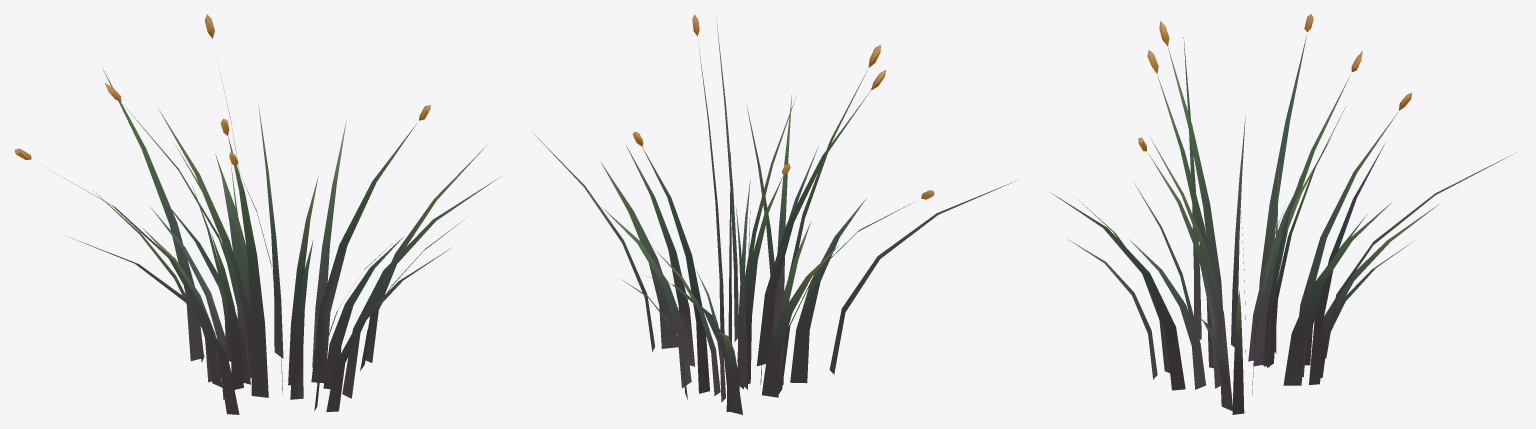
Rendered from cimen_basak.glb.
3 views of the same model, side by side, from view 1: azimuth 30°, elevation 25°; view 2: azimuth 150°, elevation 25°; view 3: azimuth 270°, elevation 25° (orthographic). The views are drawn at different scales.
Visible parts, largest first — view 1: cimen_basak_LOD0; view 2: cimen_basak_LOD0; view 3: cimen_basak_LOD0.
Part boxes in pixels (bbox=[...]): cimen_basak_LOD0: bbox=[14, 14, 501, 414]; cimen_basak_LOD0: bbox=[533, 14, 1015, 414]; cimen_basak_LOD0: bbox=[1050, 14, 1516, 414].
Size of what is drawn, in the model's own units: 1.04 by 0.6938 by 0.9712.
